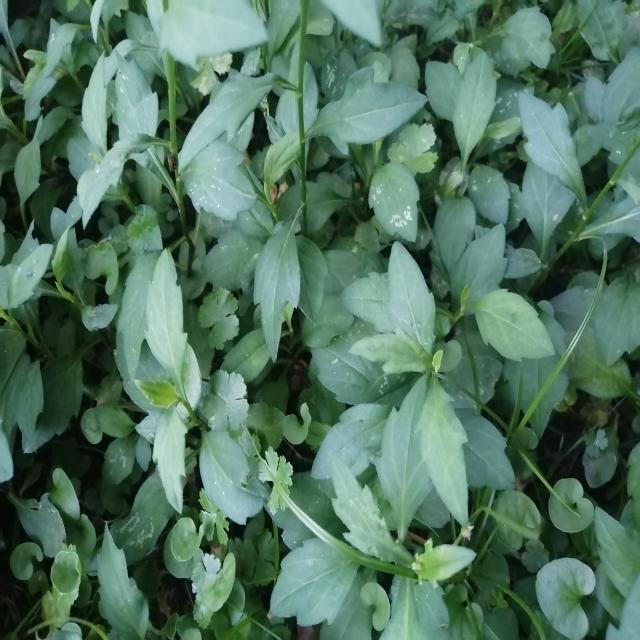Indian aster: (217, 0, 388, 331), (356, 205, 514, 522), (127, 275, 266, 533)
